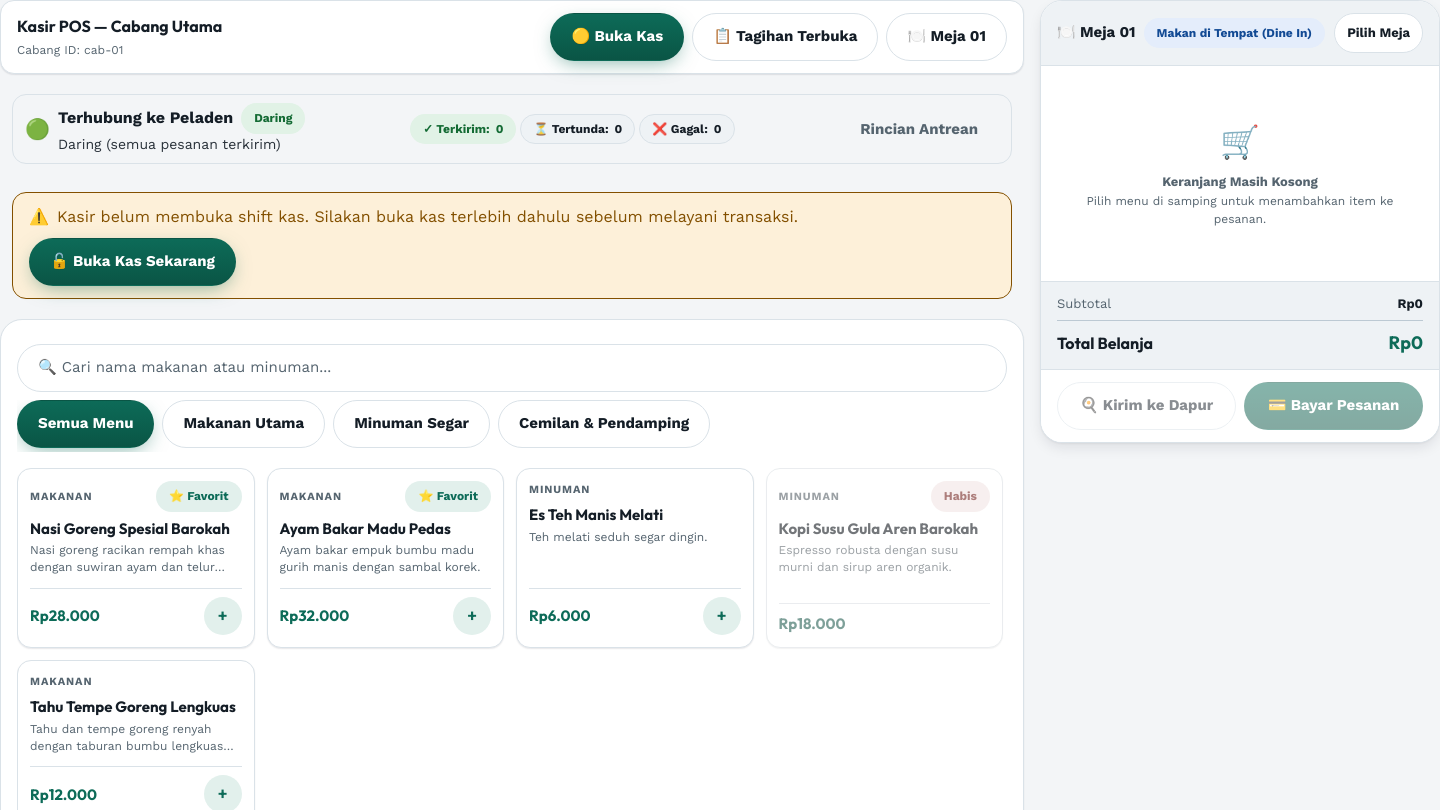
Scenario: LayarKasir POS (T3-01 s/d T3-16) › mengklik tombol bayar saat belum ada shift membuka modal Buka Kas (T7-04)
// Tambah item ke keranjang
Click the text "Tahu Tempe Goreng Lengkuas" at [136, 708], box [30, 698, 242, 717]
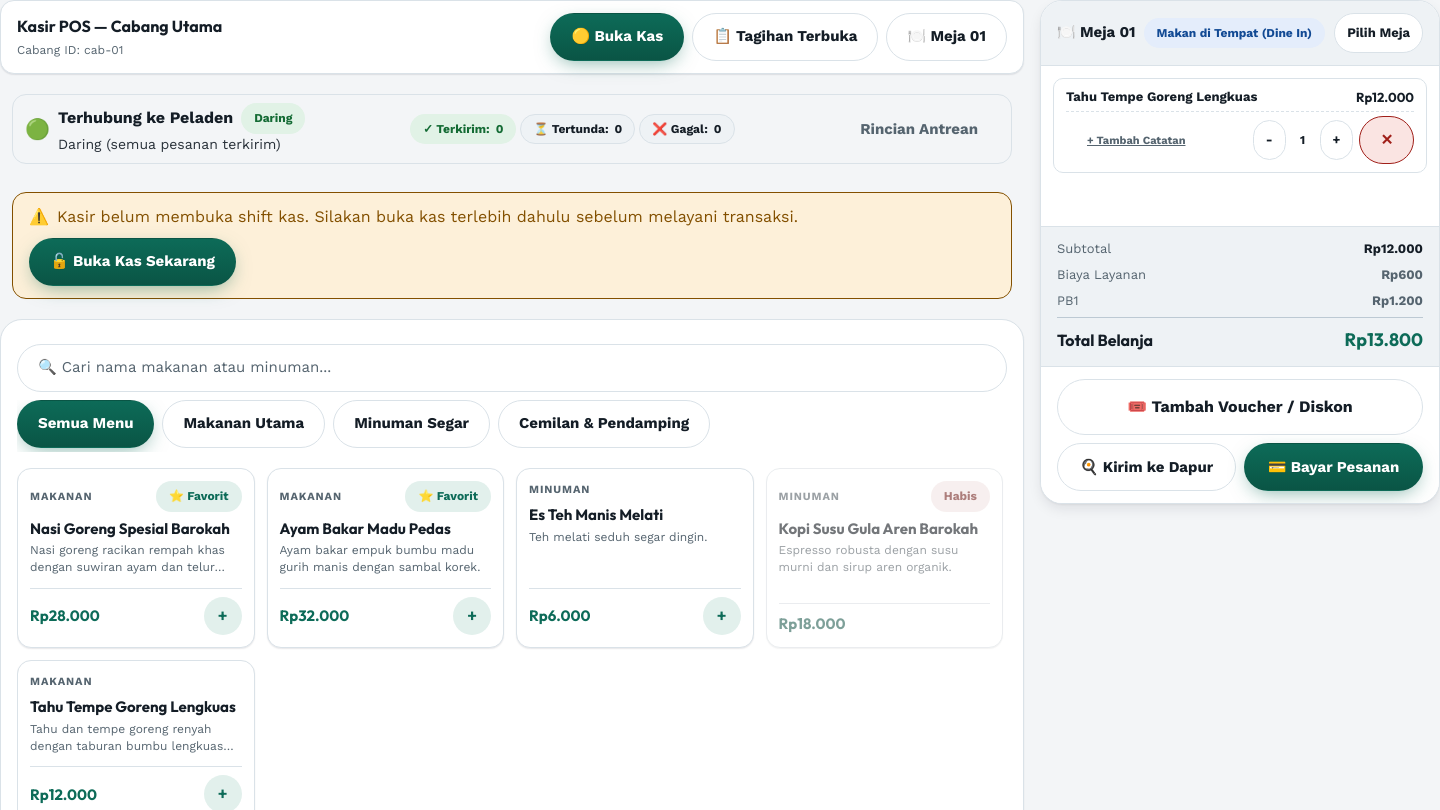
// Klik tombol bayar pesanan
Click the button "💳 Bayar Pesanan" at [1334, 467], box [1244, 443, 1423, 491]
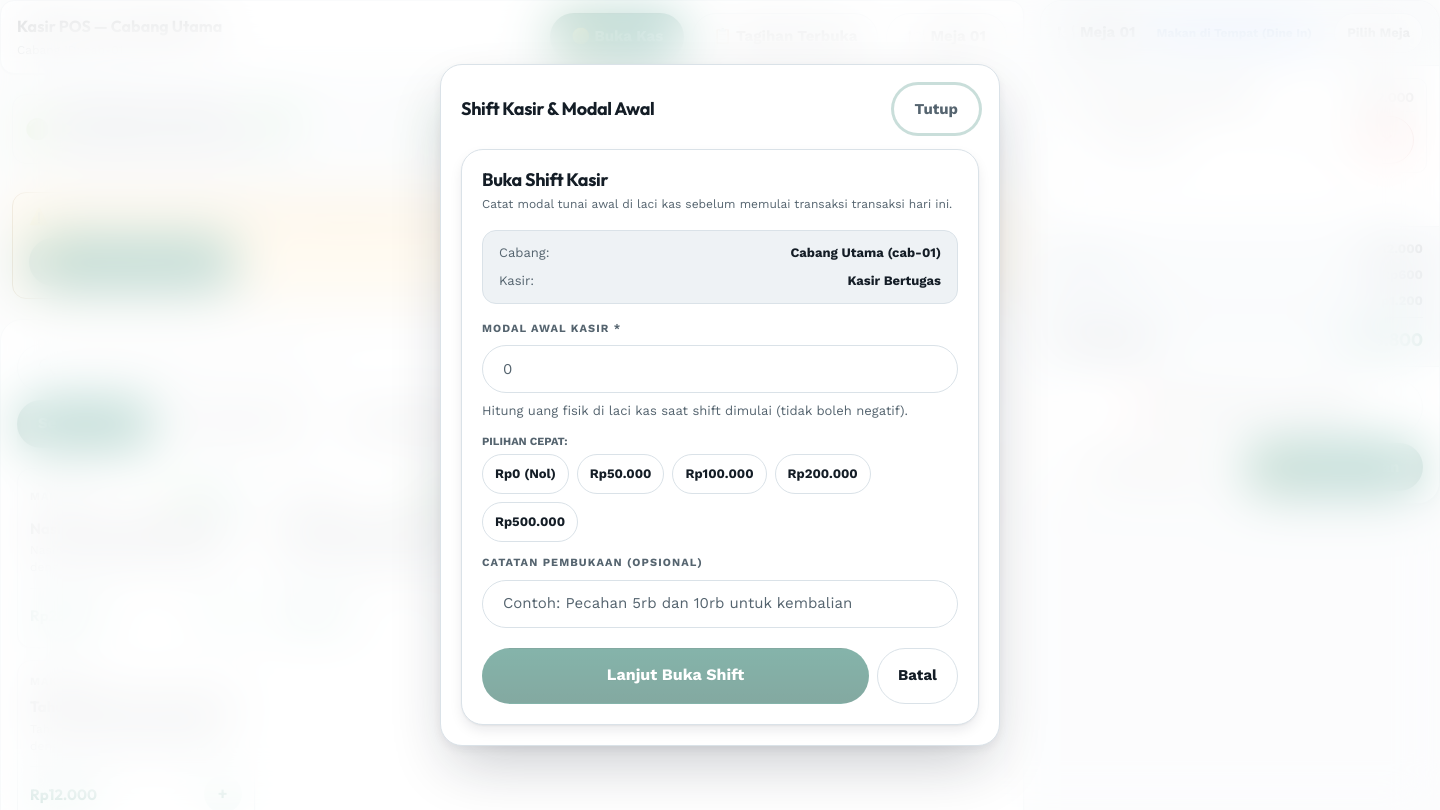
Now the heading "Buka Shift Kasir" is shown, box [482, 168, 608, 192]
Now the number field labelled "Modal Awal Kasir *" is shown, box [482, 345, 958, 393]
